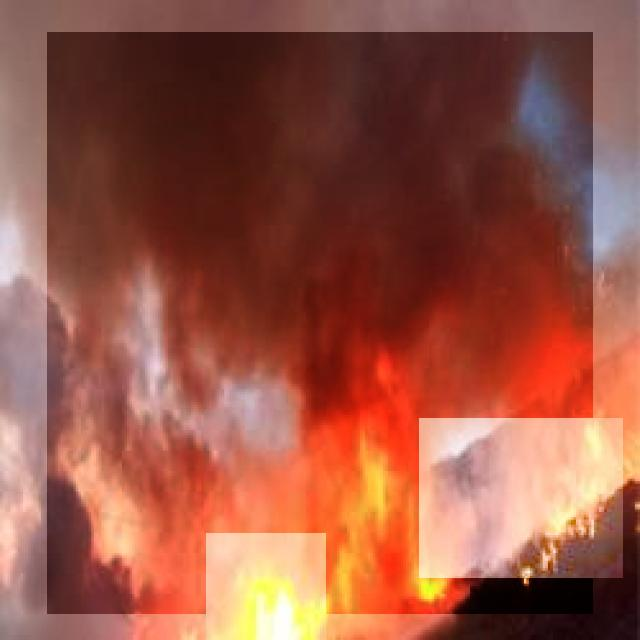Fire: (419, 418, 623, 578), (206, 533, 326, 640)
Smoke: (47, 32, 594, 614)
